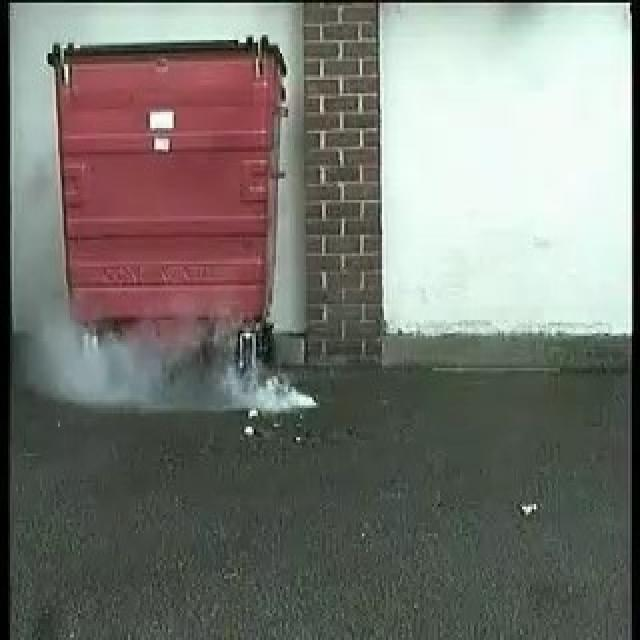smoke: (47, 328, 313, 408)
